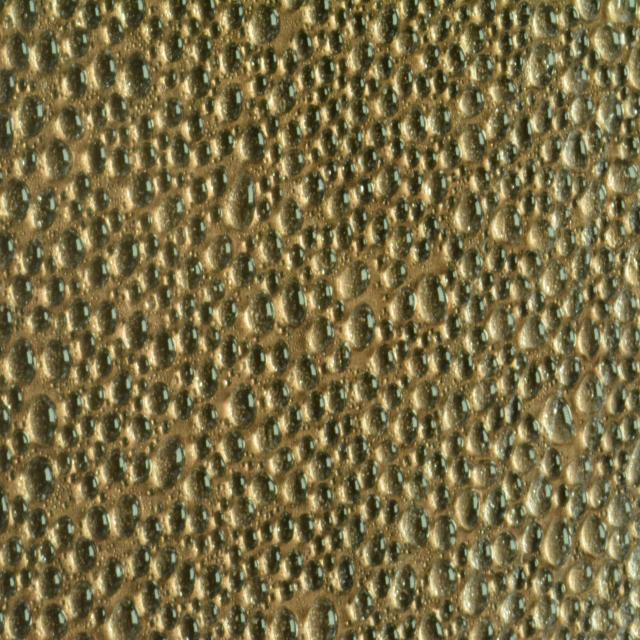dr: (154, 432, 187, 490), (27, 394, 60, 450), (544, 392, 578, 445), (416, 272, 446, 324), (229, 168, 254, 230), (110, 492, 142, 540), (226, 381, 260, 426), (346, 304, 377, 352), (305, 595, 338, 640), (9, 337, 38, 387), (581, 512, 611, 560), (44, 335, 72, 386), (23, 459, 56, 502), (529, 40, 557, 89), (456, 187, 485, 234), (110, 599, 143, 640), (282, 276, 307, 330), (5, 175, 31, 226), (490, 206, 524, 245), (459, 121, 488, 166), (338, 262, 370, 301), (245, 292, 274, 335), (124, 52, 152, 96), (345, 583, 373, 627), (18, 96, 48, 137), (577, 366, 603, 413), (609, 162, 639, 202), (115, 234, 141, 280), (399, 508, 430, 546), (44, 138, 72, 180), (596, 94, 624, 136), (36, 180, 58, 233), (546, 519, 570, 567), (484, 101, 510, 145), (250, 3, 279, 42), (151, 326, 176, 371), (527, 476, 553, 519), (85, 504, 112, 545), (32, 35, 60, 74), (240, 120, 266, 162), (600, 560, 626, 602), (402, 104, 428, 146), (562, 130, 589, 170), (464, 575, 490, 616), (360, 528, 388, 566), (121, 310, 148, 349), (256, 418, 285, 454), (68, 580, 94, 620), (578, 315, 600, 362), (100, 557, 124, 600), (9, 599, 34, 640), (43, 599, 68, 640), (594, 28, 624, 62), (390, 284, 416, 323), (446, 387, 470, 429), (598, 216, 626, 252), (131, 170, 156, 210), (278, 195, 303, 235), (533, 0, 558, 40), (394, 565, 416, 610), (10, 272, 36, 310), (614, 283, 640, 321), (608, 492, 634, 530), (376, 3, 402, 41), (540, 255, 566, 293), (60, 228, 84, 269), (272, 605, 300, 640), (467, 417, 490, 459), (468, 536, 493, 574), (534, 598, 559, 636), (207, 236, 234, 271), (158, 195, 182, 234), (269, 79, 295, 115), (493, 530, 519, 566), (352, 38, 378, 74), (582, 179, 606, 218), (624, 40, 640, 98), (220, 82, 242, 124), (312, 275, 334, 317), (197, 356, 220, 396), (74, 534, 98, 572), (294, 354, 318, 392), (189, 464, 213, 502), (154, 546, 180, 581), (485, 485, 506, 528), (39, 566, 64, 602), (490, 308, 515, 344), (250, 472, 278, 504), (520, 317, 546, 351), (89, 252, 111, 292), (22, 236, 44, 276), (218, 330, 240, 370), (589, 600, 614, 635), (7, 35, 31, 71), (310, 480, 334, 516), (284, 469, 308, 505), (459, 490, 480, 531), (94, 46, 116, 85), (200, 560, 222, 599), (304, 555, 326, 594), (512, 440, 538, 473), (525, 357, 544, 402), (60, 107, 83, 144), (325, 376, 348, 413), (570, 556, 593, 593), (64, 64, 88, 99), (312, 318, 336, 353), (226, 605, 250, 640), (416, 378, 440, 413), (396, 407, 418, 445), (511, 114, 533, 152), (186, 66, 212, 98), (148, 382, 171, 418), (223, 430, 246, 466), (433, 515, 456, 551), (122, 0, 147, 33), (177, 560, 197, 601), (554, 321, 578, 355), (443, 42, 467, 76), (86, 138, 108, 175), (98, 298, 120, 335), (458, 90, 487, 118), (491, 76, 518, 106), (502, 591, 527, 623), (556, 226, 577, 264), (627, 436, 640, 497), (232, 253, 254, 289), (372, 343, 394, 379), (464, 20, 486, 56), (609, 0, 639, 26), (12, 2, 37, 33), (430, 561, 455, 592), (494, 425, 516, 460), (531, 218, 553, 253), (50, 518, 74, 550), (337, 552, 356, 592), (311, 450, 334, 483), (378, 166, 401, 199), (69, 296, 90, 332), (270, 338, 291, 374), (430, 100, 451, 136), (408, 469, 430, 503), (604, 417, 623, 456), (418, 612, 444, 640), (564, 456, 592, 482), (598, 355, 620, 388), (522, 518, 544, 551), (301, 174, 325, 204), (364, 408, 388, 438), (558, 354, 582, 384), (112, 370, 133, 404), (170, 500, 187, 542), (261, 233, 284, 264), (48, 0, 80, 22), (358, 369, 378, 404), (454, 348, 474, 383), (66, 27, 90, 56), (214, 124, 235, 157), (348, 430, 369, 463), (430, 343, 451, 376), (143, 578, 161, 616), (186, 256, 204, 294), (99, 411, 121, 442), (179, 609, 201, 640), (268, 378, 290, 409), (308, 392, 328, 426), (247, 342, 267, 376), (625, 243, 640, 288), (4, 535, 25, 567), (581, 420, 604, 449), (132, 449, 151, 484), (89, 217, 111, 247), (248, 607, 268, 640), (559, 596, 581, 626), (348, 93, 368, 126), (398, 25, 420, 55), (1, 110, 15, 157), (178, 325, 199, 356), (378, 87, 399, 118), (172, 132, 190, 168), (135, 143, 159, 170), (130, 416, 154, 443), (282, 119, 306, 146), (570, 56, 588, 92), (329, 186, 348, 220), (205, 452, 228, 480), (471, 55, 494, 83), (187, 215, 207, 247), (336, 220, 356, 252), (428, 172, 448, 204), (534, 96, 550, 136), (608, 531, 630, 560), (380, 381, 402, 410), (590, 246, 612, 275), (109, 92, 130, 122), (382, 468, 403, 498), (394, 220, 412, 255), (469, 615, 494, 640), (450, 278, 474, 304), (144, 513, 164, 544), (130, 547, 150, 578), (466, 291, 486, 322), (462, 249, 482, 280), (330, 346, 352, 374), (520, 251, 542, 279), (571, 96, 593, 124), (622, 321, 640, 355), (419, 412, 440, 441), (502, 173, 523, 202), (222, 41, 241, 73), (471, 380, 490, 412), (543, 448, 563, 478), (446, 428, 466, 458), (396, 66, 416, 96), (620, 132, 640, 162), (278, 510, 295, 545), (479, 355, 501, 382), (373, 210, 391, 243), (430, 15, 452, 42), (190, 504, 209, 535), (452, 459, 473, 487), (294, 30, 314, 59), (540, 136, 560, 165), (604, 319, 621, 353), (0, 71, 16, 107), (11, 493, 29, 525), (108, 451, 126, 483), (287, 546, 303, 582), (443, 140, 461, 172), (565, 287, 584, 317), (173, 392, 194, 419), (105, 16, 125, 44), (46, 280, 66, 308), (0, 566, 16, 601), (283, 148, 303, 176), (627, 542, 640, 585), (410, 344, 428, 375), (309, 2, 332, 26), (431, 453, 450, 482), (0, 483, 10, 538), (196, 1, 221, 23), (96, 348, 113, 380), (266, 544, 283, 576), (365, 489, 382, 521), (110, 148, 128, 178), (275, 446, 295, 473), (344, 473, 362, 503), (506, 470, 524, 500), (1, 233, 14, 274), (350, 511, 364, 549), (488, 246, 507, 274), (324, 418, 340, 451), (618, 357, 640, 381), (445, 308, 461, 341), (410, 239, 432, 263), (475, 0, 497, 24), (570, 488, 587, 519), (581, 218, 598, 249), (521, 417, 542, 442), (21, 146, 39, 175), (161, 240, 179, 269), (610, 385, 628, 414), (83, 4, 102, 31), (166, 96, 182, 128), (374, 566, 390, 598), (286, 403, 302, 435), (32, 508, 49, 538), (186, 110, 203, 140), (321, 128, 338, 158), (221, 297, 238, 327), (297, 514, 314, 544), (1, 302, 12, 348), (227, 0, 245, 28), (262, 268, 280, 296), (191, 176, 209, 204), (470, 168, 491, 192), (562, 4, 580, 32), (378, 443, 398, 468), (595, 275, 615, 300), (625, 202, 640, 235), (210, 276, 229, 302), (166, 32, 183, 61), (361, 146, 378, 175), (537, 189, 554, 218), (138, 113, 156, 140), (60, 423, 78, 450), (80, 476, 98, 503), (382, 501, 400, 528), (510, 275, 528, 302), (233, 503, 256, 524), (578, 0, 599, 23), (608, 67, 629, 90), (422, 43, 442, 67), (12, 429, 29, 457), (347, 125, 364, 153), (414, 71, 431, 99), (546, 301, 560, 335), (556, 47, 570, 81), (623, 92, 640, 120), (327, 528, 346, 553), (471, 326, 489, 352), (212, 167, 227, 198), (306, 105, 321, 136), (34, 304, 50, 333), (66, 392, 82, 421), (317, 252, 337, 275), (94, 184, 111, 211), (478, 461, 497, 485), (536, 569, 554, 594), (596, 452, 614, 477), (330, 29, 348, 54), (552, 107, 568, 135), (576, 249, 590, 281), (264, 112, 281, 138), (203, 322, 220, 348), (433, 485, 450, 511), (422, 214, 439, 240), (9, 386, 24, 415), (0, 442, 14, 473), (622, 415, 636, 446), (377, 318, 393, 345), (502, 368, 520, 392), (592, 298, 610, 322), (281, 47, 298, 72), (148, 13, 163, 41), (92, 101, 107, 129), (136, 352, 151, 380), (92, 440, 107, 468), (163, 602, 178, 630), (321, 54, 335, 84), (252, 577, 267, 605), (491, 398, 505, 428), (626, 584, 640, 614), (407, 169, 422, 197), (586, 125, 601, 153), (157, 168, 173, 194), (362, 460, 378, 486), (231, 472, 247, 498), (511, 502, 527, 528), (378, 54, 394, 80), (87, 385, 104, 409), (40, 541, 57, 565), (321, 160, 338, 184), (252, 73, 269, 97), (447, 235, 464, 259), (528, 290, 545, 314), (264, 46, 278, 75), (494, 566, 508, 595), (557, 173, 571, 202), (613, 250, 627, 279), (69, 198, 84, 225), (590, 479, 603, 510), (75, 173, 91, 198), (80, 333, 96, 358), (169, 0, 189, 20), (210, 526, 226, 551), (553, 485, 569, 510), (608, 193, 624, 218), (53, 450, 71, 472), (422, 148, 440, 170), (230, 566, 244, 594), (372, 120, 386, 148), (500, 29, 514, 57), (195, 38, 212, 61), (300, 66, 315, 92), (508, 397, 523, 423), (432, 68, 447, 94), (516, 26, 531, 52), (201, 407, 217, 431), (628, 384, 640, 416), (510, 566, 526, 590), (572, 35, 588, 59), (146, 262, 159, 291), (302, 435, 315, 464), (324, 100, 341, 122), (410, 199, 427, 221), (508, 53, 525, 75), (545, 352, 557, 383), (108, 210, 124, 233), (182, 295, 198, 318), (388, 137, 404, 160), (516, 1, 532, 24), (290, 242, 304, 268), (352, 9, 366, 35), (502, 4, 515, 32), (143, 232, 158, 256), (1, 398, 11, 434), (81, 412, 96, 436), (340, 411, 355, 435), (618, 604, 633, 628), (555, 207, 572, 228), (74, 449, 88, 474), (180, 362, 194, 387), (335, 502, 349, 527), (342, 156, 354, 185), (244, 231, 259, 254), (394, 259, 409, 282), (394, 199, 409, 222), (193, 534, 210, 554), (572, 172, 589, 192), (76, 361, 92, 382), (196, 140, 210, 164), (196, 436, 210, 460), (260, 521, 274, 545), (520, 616, 536, 637), (502, 340, 516, 364), (486, 146, 500, 170), (312, 534, 327, 556), (381, 623, 400, 640), (245, 555, 260, 576), (268, 140, 281, 164), (526, 554, 539, 578), (415, 443, 428, 467), (354, 204, 367, 228), (308, 148, 322, 170), (280, 582, 294, 604), (496, 276, 510, 298), (403, 0, 420, 18), (204, 604, 219, 624), (620, 23, 635, 43), (497, 627, 520, 640), (168, 306, 182, 327), (594, 155, 608, 176), (185, 21, 201, 39), (388, 538, 400, 562), (357, 182, 373, 200), (141, 212, 154, 234), (19, 566, 32, 588), (303, 224, 316, 246), (394, 337, 407, 359), (353, 70, 364, 96), (403, 615, 418, 634), (526, 188, 536, 216), (165, 66, 177, 89), (55, 311, 67, 334), (26, 546, 38, 569), (209, 202, 221, 225), (258, 96, 270, 119), (614, 450, 626, 473), (395, 358, 408, 379), (542, 168, 555, 189), (339, 625, 357, 640), (628, 618, 640, 640), (356, 229, 368, 251), (406, 146, 418, 168), (596, 66, 608, 88), (145, 291, 158, 311), (129, 285, 142, 305), (160, 286, 173, 306), (135, 377, 148, 397), (446, 263, 456, 289), (422, 0, 438, 16), (457, 4, 472, 21), (104, 126, 118, 144), (212, 508, 226, 526), (480, 272, 494, 290), (522, 90, 536, 108), (321, 226, 332, 248), (333, 299, 344, 321), (246, 528, 257, 550), (440, 0, 456, 15), (525, 158, 535, 182), (149, 627, 167, 640), (243, 95, 256, 113), (506, 252, 519, 270), (459, 540, 467, 569), (326, 553, 337, 574), (391, 117, 402, 138), (507, 144, 518, 165), (260, 173, 270, 196), (316, 85, 328, 104), (367, 80, 383, 94), (553, 90, 567, 106), (210, 22, 223, 39), (374, 254, 387, 271), (250, 54, 261, 74), (204, 96, 215, 116), (488, 23, 499, 43), (201, 302, 213, 320), (555, 580, 567, 598), (336, 9, 348, 27), (95, 607, 109, 622), (450, 80, 460, 101), (289, 0, 308, 11), (322, 362, 333, 381), (406, 322, 417, 341), (160, 418, 172, 435), (258, 201, 270, 218), (229, 545, 241, 562), (454, 620, 466, 637), (47, 256, 57, 276), (75, 630, 95, 640), (221, 584, 231, 604), (240, 334, 250, 354), (445, 597, 455, 617), (338, 118, 348, 138), (158, 132, 170, 148), (202, 624, 214, 640), (270, 186, 282, 202), (230, 529, 246, 541), (120, 125, 130, 144), (358, 630, 377, 640), (403, 452, 414, 469), (304, 266, 314, 284), (498, 54, 507, 74), (338, 54, 349, 70), (340, 91, 350, 108), (338, 71, 348, 88), (446, 172, 459, 185), (68, 280, 80, 294), (176, 172, 186, 188), (16, 76, 26, 92), (322, 514, 332, 530), (0, 610, 6, 636), (432, 330, 443, 344), (166, 269, 176, 284), (216, 622, 226, 637), (561, 625, 571, 640), (448, 192, 458, 207), (103, 0, 115, 12), (160, 150, 168, 168), (440, 227, 450, 241), (192, 598, 202, 611), (373, 613, 383, 626), (0, 376, 8, 392), (221, 492, 229, 508), (455, 21, 464, 35), (212, 55, 220, 70), (318, 32, 328, 44), (586, 282, 592, 302), (418, 17, 427, 30), (562, 34, 572, 45), (4, 16, 13, 28), (212, 77, 219, 92), (274, 168, 282, 181), (615, 472, 623, 484), (0, 165, 5, 184), (130, 350, 135, 368), (576, 631, 585, 640), (28, 80, 36, 90), (347, 0, 355, 10), (0, 2, 9, 10), (150, 486, 154, 499), (424, 332, 428, 342)
